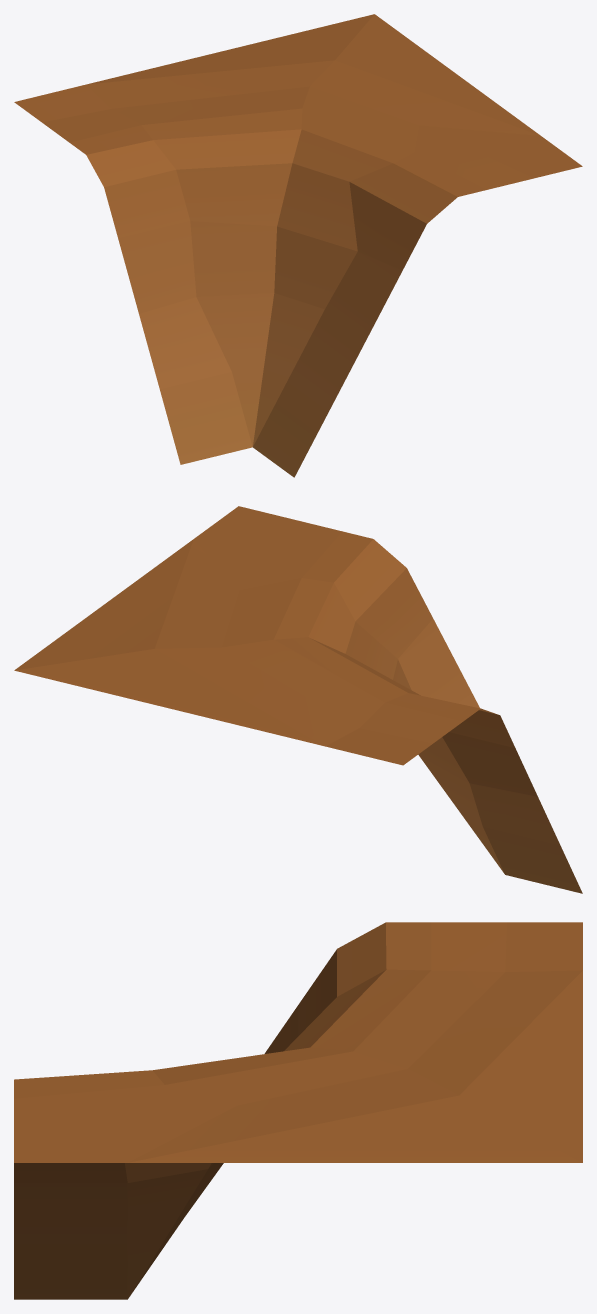
The model's file is cGround_C_Side_4__.glb.
3 renders of one model, top to bottom at view 1: azimuth 30°, elevation 25°; view 2: azimuth 150°, elevation 25°; view 3: azimuth 270°, elevation 25°, orthographic. The views are drawn at different scales.
Visible parts, largest first — view 1: cGround_C_Side_4; view 2: cGround_C_Side_4; view 3: cGround_C_Side_4.
Boxes of the visible parts, x1,y1,x2,y2 form: cGround_C_Side_4: (14, 14, 582, 477); cGround_C_Side_4: (14, 506, 582, 893); cGround_C_Side_4: (14, 922, 582, 1299).
Bounding box in the file's own units: 5 × 3.29 × 5.
Materials: 1 (1 with a texture image).
